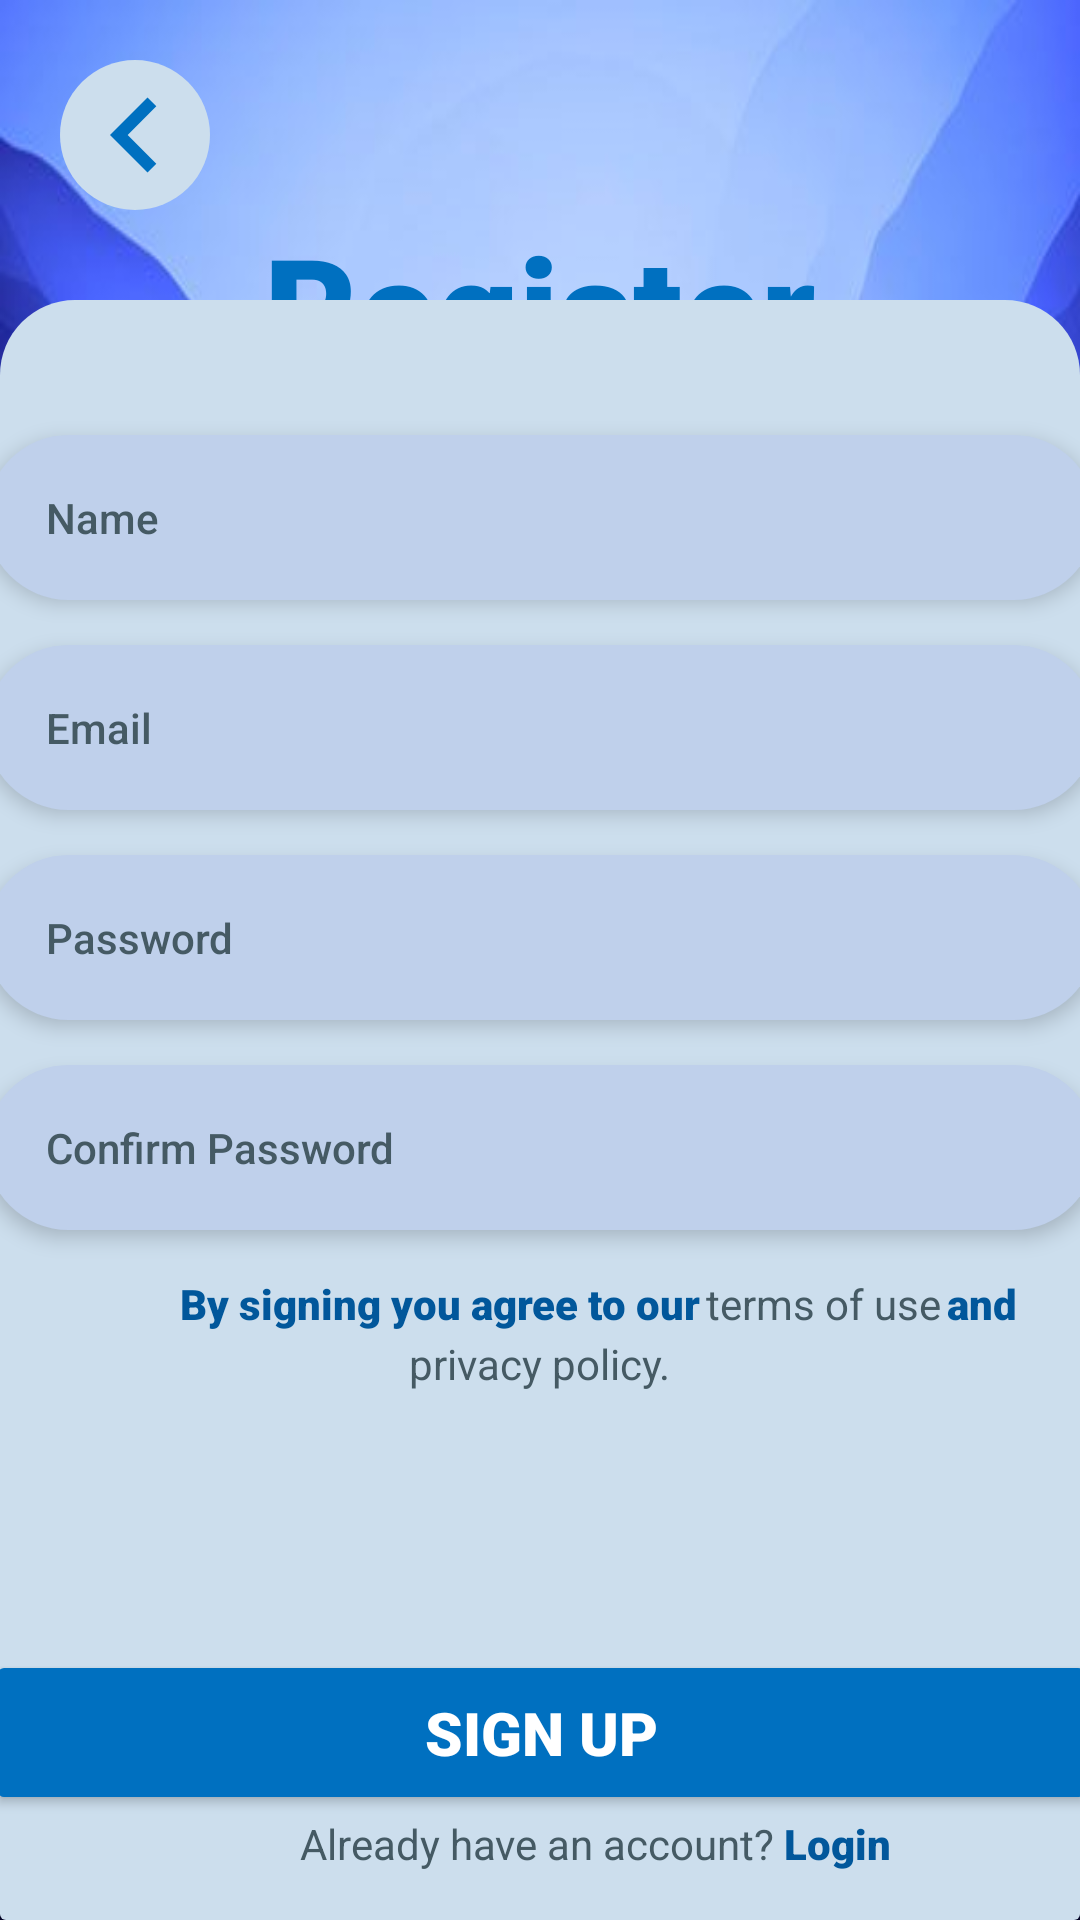

Where to tap for icons on this 1080 × 1920 app screen, as [x,y]:
keyboard arrow left: [135,135]
